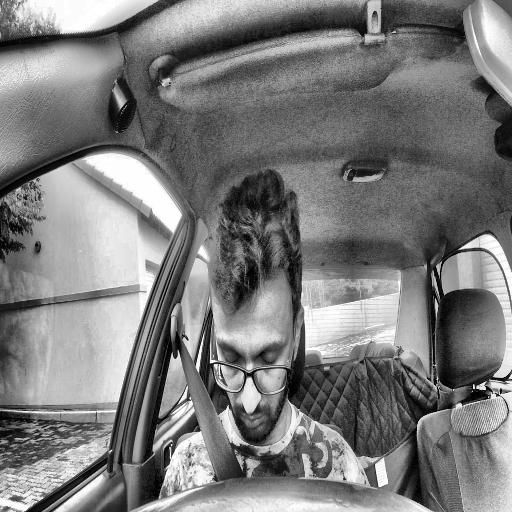drowsy: (210, 168, 304, 445)
